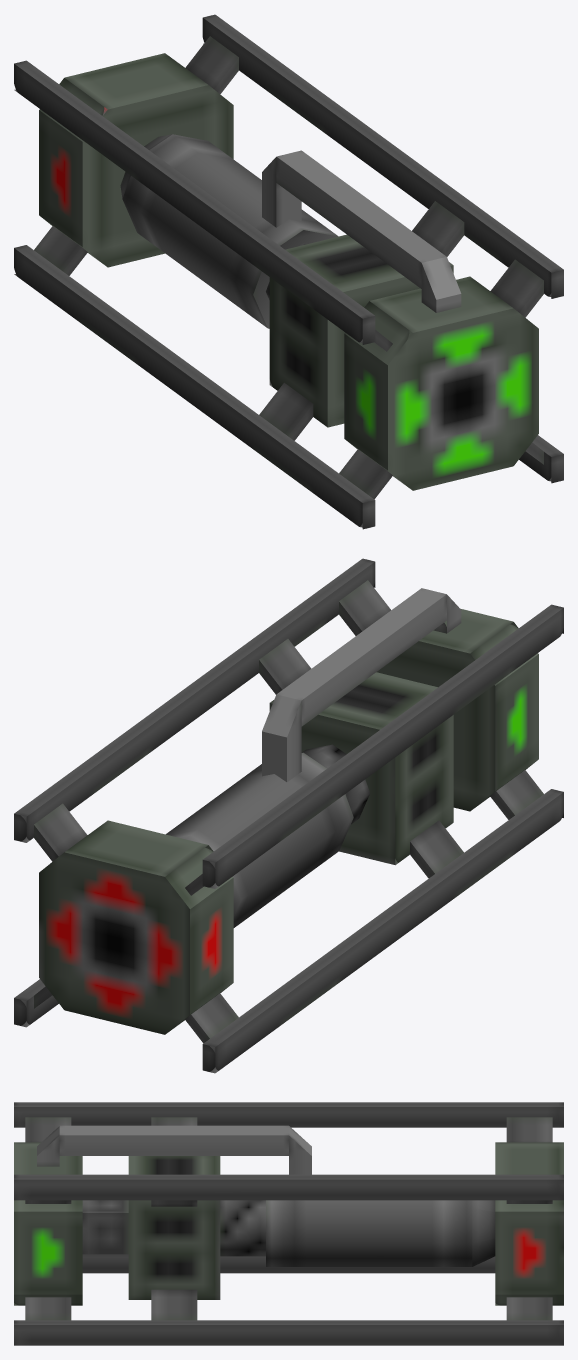
File: flow_control_pump.obj
The picture shows the model from 3 angles, top to bottom: view 1: azimuth 30°, elevation 25°; view 2: azimuth 150°, elevation 25°; view 3: azimuth 270°, elevation 25°; orthographic projection. The views are drawn at different scales.
Visible parts, largest first — view 1: Pump, RailTop, RailBottom; view 2: Pump, RailTop, RailBottom, Rotor; view 3: Pump, RailTop, RailBottom, Rotor.
Boxes of the visible parts, x1=… form: Pump: x1=39, y1=53, x2=538, y2=490; RailTop: x1=14, y1=14, x2=563, y2=351; RailBottom: x1=14, y1=226, x2=563, y2=529; Pump: x1=39, y1=588, x2=538, y2=1034; RailTop: x1=14, y1=558, x2=563, y2=895; RailBottom: x1=14, y1=770, x2=563, y2=1073; Rotor: x1=302, y1=744, x2=370, y2=824; Pump: x1=14, y1=1125, x2=563, y2=1305; RailTop: x1=14, y1=1102, x2=563, y2=1206; RailBottom: x1=14, y1=1254, x2=563, y2=1345; Rotor: x1=220, y1=1200, x2=265, y2=1256.
Bounding box in the file's own units: 1 × 1.06 × 3.
